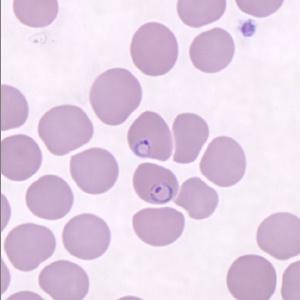Infected: (126, 111, 173, 162), (132, 161, 179, 207)
Uninfected: (38, 103, 95, 156), (89, 68, 141, 126), (129, 21, 177, 76), (68, 147, 118, 195), (5, 223, 56, 270), (225, 254, 277, 300), (200, 135, 245, 187), (130, 207, 186, 247), (258, 212, 300, 262), (63, 215, 109, 260), (36, 261, 88, 300), (26, 174, 71, 219), (190, 28, 235, 73), (175, 176, 219, 221), (172, 113, 208, 165), (1, 133, 40, 180), (12, 0, 59, 29), (175, 0, 225, 26), (1, 84, 28, 132)
